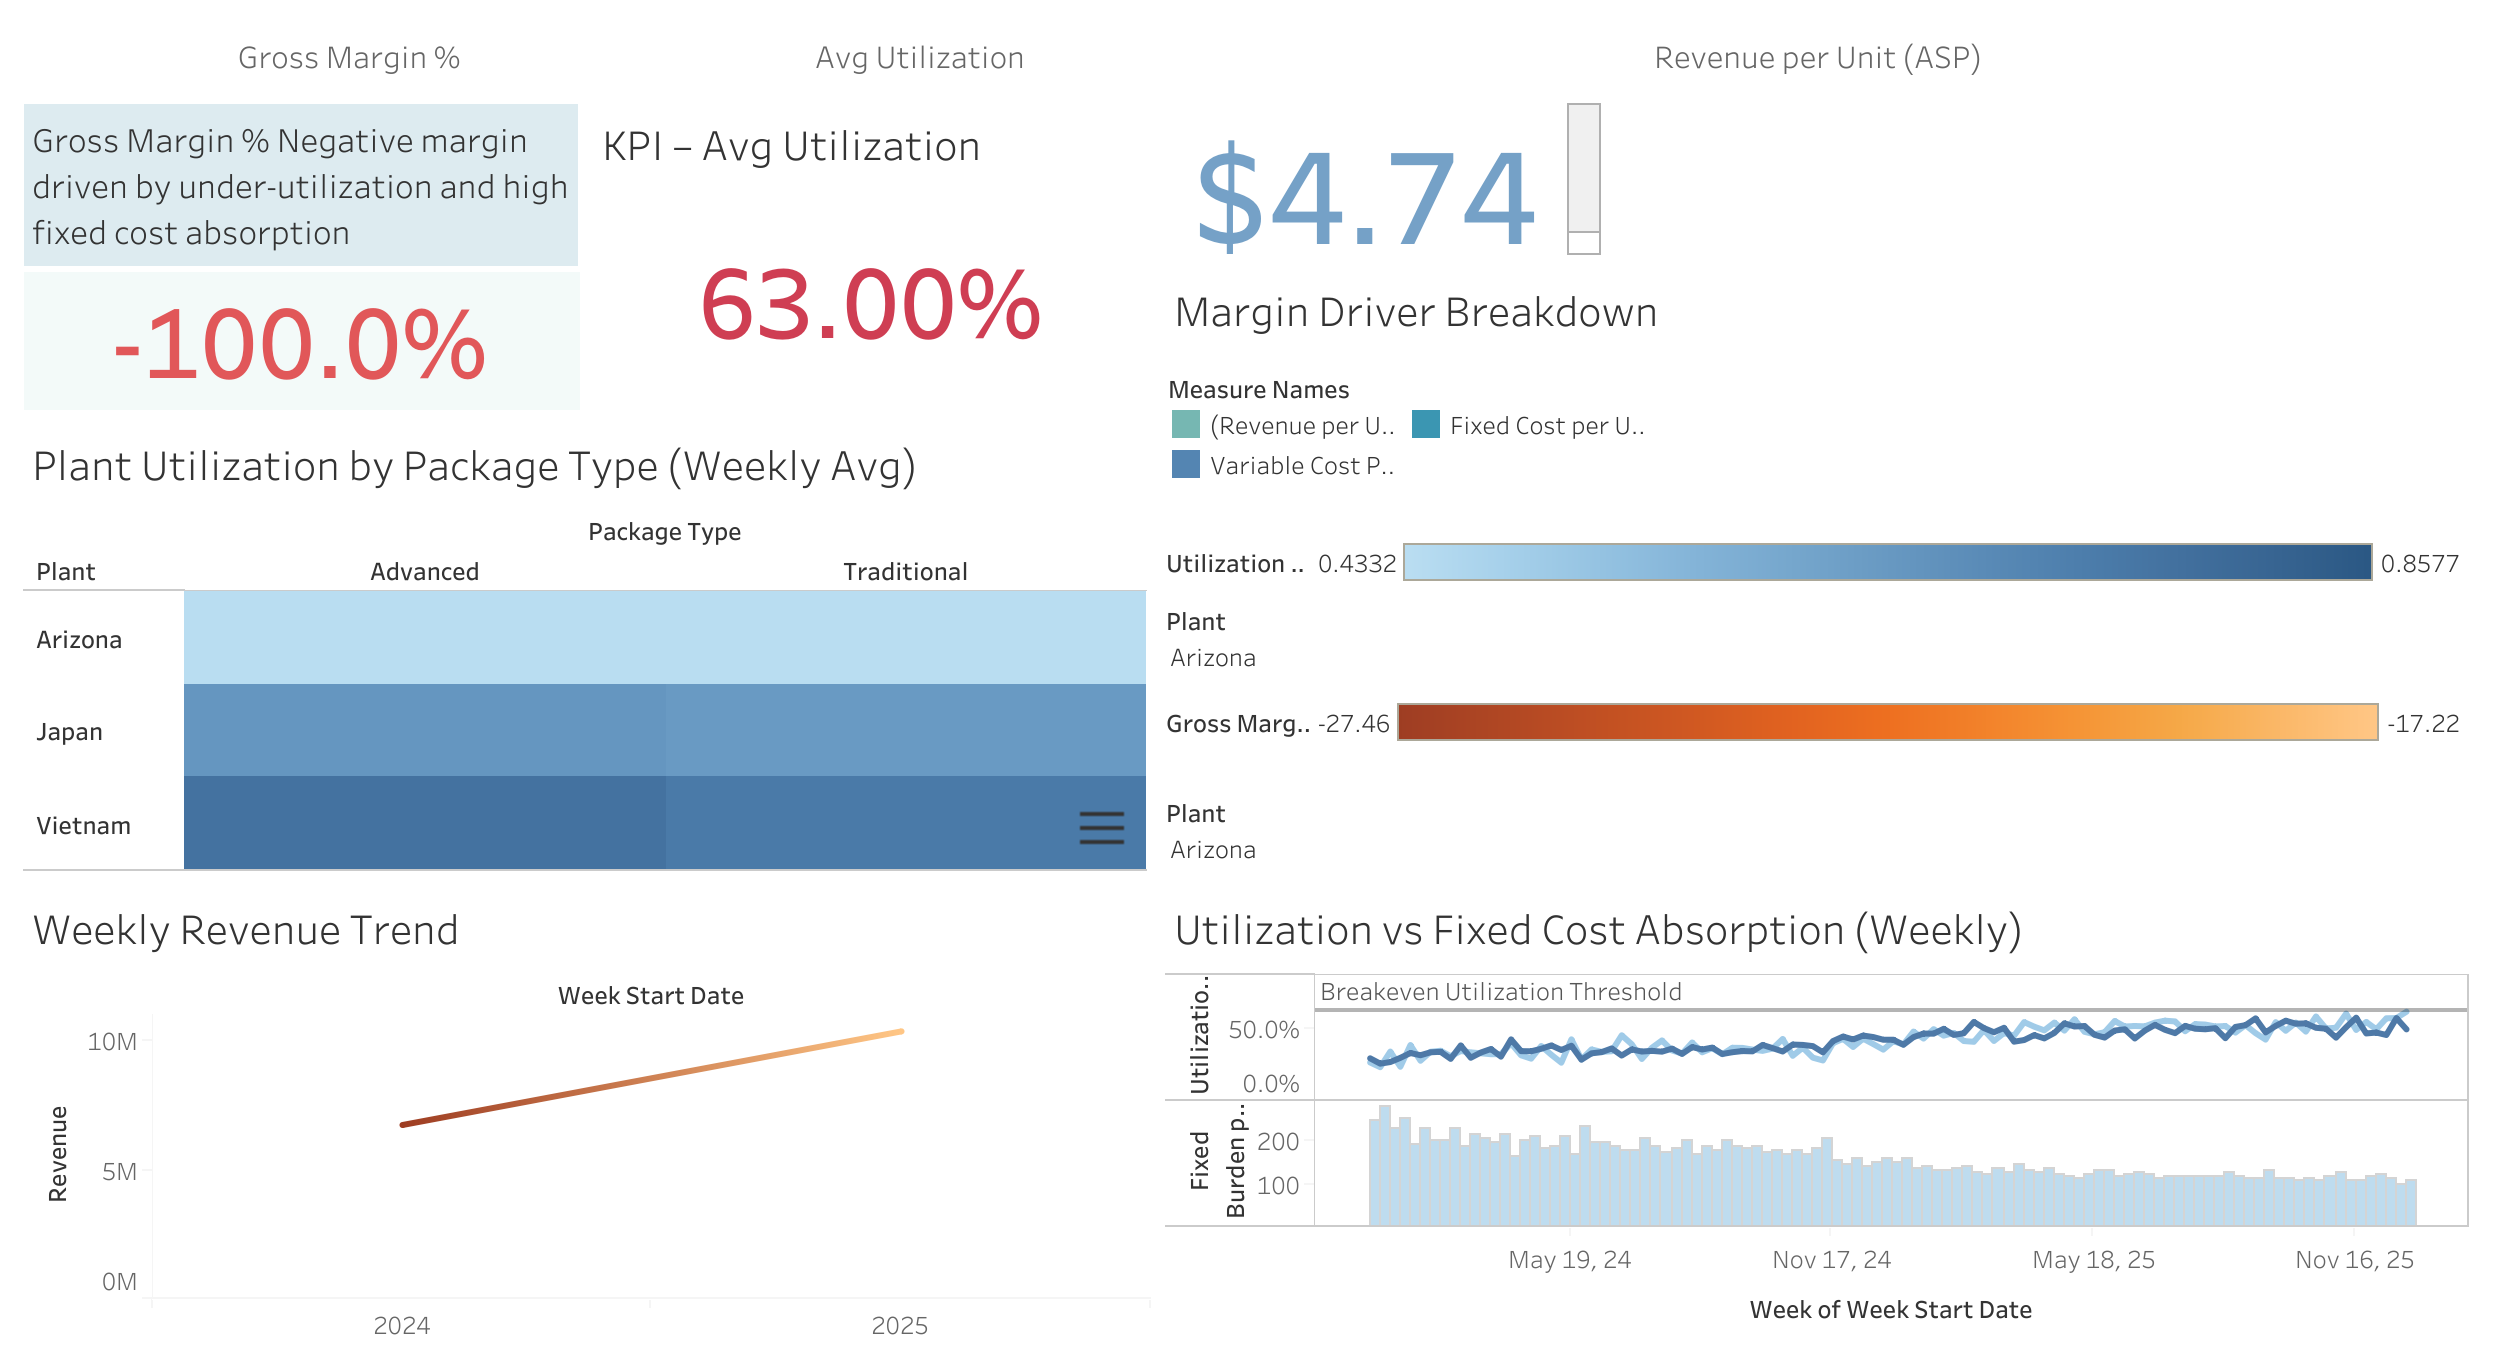

The dashboard page shown, as its layout file describes it:
{"tool":"tableau","page":{"name":"Dashboard 1","canvas":[1000,1000],"units":"permille","ordinal":0},"visuals":[{"type":"text","box":[6.4,11.7,266.9,58.5]},{"type":"text","box":[273.3,11.7,191.1,58.5]},{"type":"text","box":[464.4,11.7,529.2,58.5]},{"type":"worksheet","title":"Gross Margin % Negative margin driven by under-utilization and high fixed cost absorption","mark":"Text","box":[6.4,70.2,228.8,234.3]},{"type":"worksheet","title":"KPI – Avg Utilization","mark":"Text","box":[235.2,70.2,228.9,234.3]},{"type":"worksheet","title":"KPI – Revenue per Unit (ASP)","mark":"Automatic","box":[464.2,70.2,529.4,121.5]},{"type":"legend","title":"Gross Margin % Negative margin driven by under-utilization and high fixed cost absorption","param":"[federated.1kxjzzq1bpka8y1e6h6lw02fdwkp].[usr:Calculation_0014262218666124:nk]","box":[464.4,165.2,529.2,66.1]},{"type":"worksheet","title":"Margin Driver Breakdown","mark":"Bar","box":[464.2,191.7,529.4,70.3]},{"type":"legend","title":"Margin Driver Breakdown","param":"[federated.1kxjzzq1bpka8y1e6h6lw02fdwkp].[:Measure Names]","box":[464.2,262,529.4,124.5]},{"type":"worksheet","title":"Plant Utilization by Package Type (Weekly Avg)","mark":"Square","rows":["plant"],"cols":["package_type"],"box":[6.4,304.4,457.7,339.7]},{"type":"legend","title":"Plant Utilization by Package Type (Weekly Avg)","param":"[federated.1kxjzzq1bpka8y1e6h6lw02fdwkp].[usr:Calculation_0001136268345528:qk]","box":[464.2,386.4,529.4,46.9]},{"type":"filter","title":"Weekly Revenue Trend","param":"[federated.1kxjzzq1bpka8y1e6h6lw02fdwkp].[none:plant:nk]","box":[464.2,433.3,529.4,70.3]},{"type":"legend","title":"Weekly Revenue Trend","param":"[federated.1kxjzzq1bpka8y1e6h6lw02fdwkp].[usr:Calculation_0001136269021373:qk]","box":[464.2,503.5,529.4,70.3]},{"type":"filter","title":"Utilization vs Fixed Cost Absorption (Weekly)","param":"[federated.1kxjzzq1bpka8y1e6h6lw02fdwkp].[none:plant:nk]","box":[464.2,573.8,529.4,70.3]},{"type":"legend","title":"KPI – Avg Utilization","param":"[federated.1kxjzzq1bpka8y1e6h6lw02fdwkp].[usr:Calculation_0001136301174983:nk]","box":[464.2,587.9,529.4,56.2]},{"type":"dashboard-object","box":[432.2,588.6,19.2,35.1]},{"type":"worksheet","title":"Weekly Revenue Trend","mark":"Line","rows":["Calculation_0001136268443833"],"cols":["week_start_date"],"box":[6.4,644.1,458,344.2]},{"type":"worksheet","title":"Utilization vs Fixed Cost Absorption (Weekly)","mark":"Automatic","rows":["Calculation_0001136268345528","Calculation_0001136269127870"],"cols":["week_start_date"],"box":[464.4,644.1,529.2,344.2]}]}

Visuals, with their boxes on the dashboard's canvas, which has no fixed pixel size, in thousandths of its width and height (x1, y1, x2, y2). These are canvas units, not pixel positions in the 2494x1366 screenshot, which may show the page scaled, cropped or inside an application window:
text: Rect(6, 12, 273, 70)
text: Rect(273, 12, 464, 70)
text: Rect(464, 12, 994, 70)
"Gross Margin % Negative margin driven by under-utilization and high fixed cost absorption" worksheet (Text marks): Rect(6, 70, 235, 304)
"KPI – Avg Utilization" worksheet (Text marks): Rect(235, 70, 464, 304)
"KPI – Revenue per Unit (ASP)" worksheet: Rect(464, 70, 994, 192)
"Gross Margin % Negative margin driven by under-utilization and high fixed cost absorption" legend: Rect(464, 165, 994, 231)
"Margin Driver Breakdown" worksheet (Bar marks): Rect(464, 192, 994, 262)
"Margin Driver Breakdown" legend: Rect(464, 262, 994, 386)
"Plant Utilization by Package Type (Weekly Avg)" worksheet (Square marks): Rect(6, 304, 464, 644)
"Plant Utilization by Package Type (Weekly Avg)" legend: Rect(464, 386, 994, 433)
"Weekly Revenue Trend" filter: Rect(464, 433, 994, 504)
"Weekly Revenue Trend" legend: Rect(464, 504, 994, 574)
"Utilization vs Fixed Cost Absorption (Weekly)" filter: Rect(464, 574, 994, 644)
"KPI – Avg Utilization" legend: Rect(464, 588, 994, 644)
dashboard-object: Rect(432, 589, 451, 624)
"Weekly Revenue Trend" worksheet (Line marks): Rect(6, 644, 464, 988)
"Utilization vs Fixed Cost Absorption (Weekly)" worksheet: Rect(464, 644, 994, 988)
